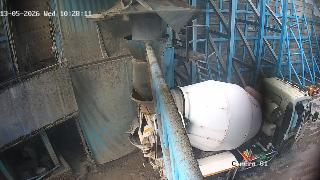cement_mixer_truck: (130, 78, 320, 180)
swing_chute: (124, 32, 171, 101)
